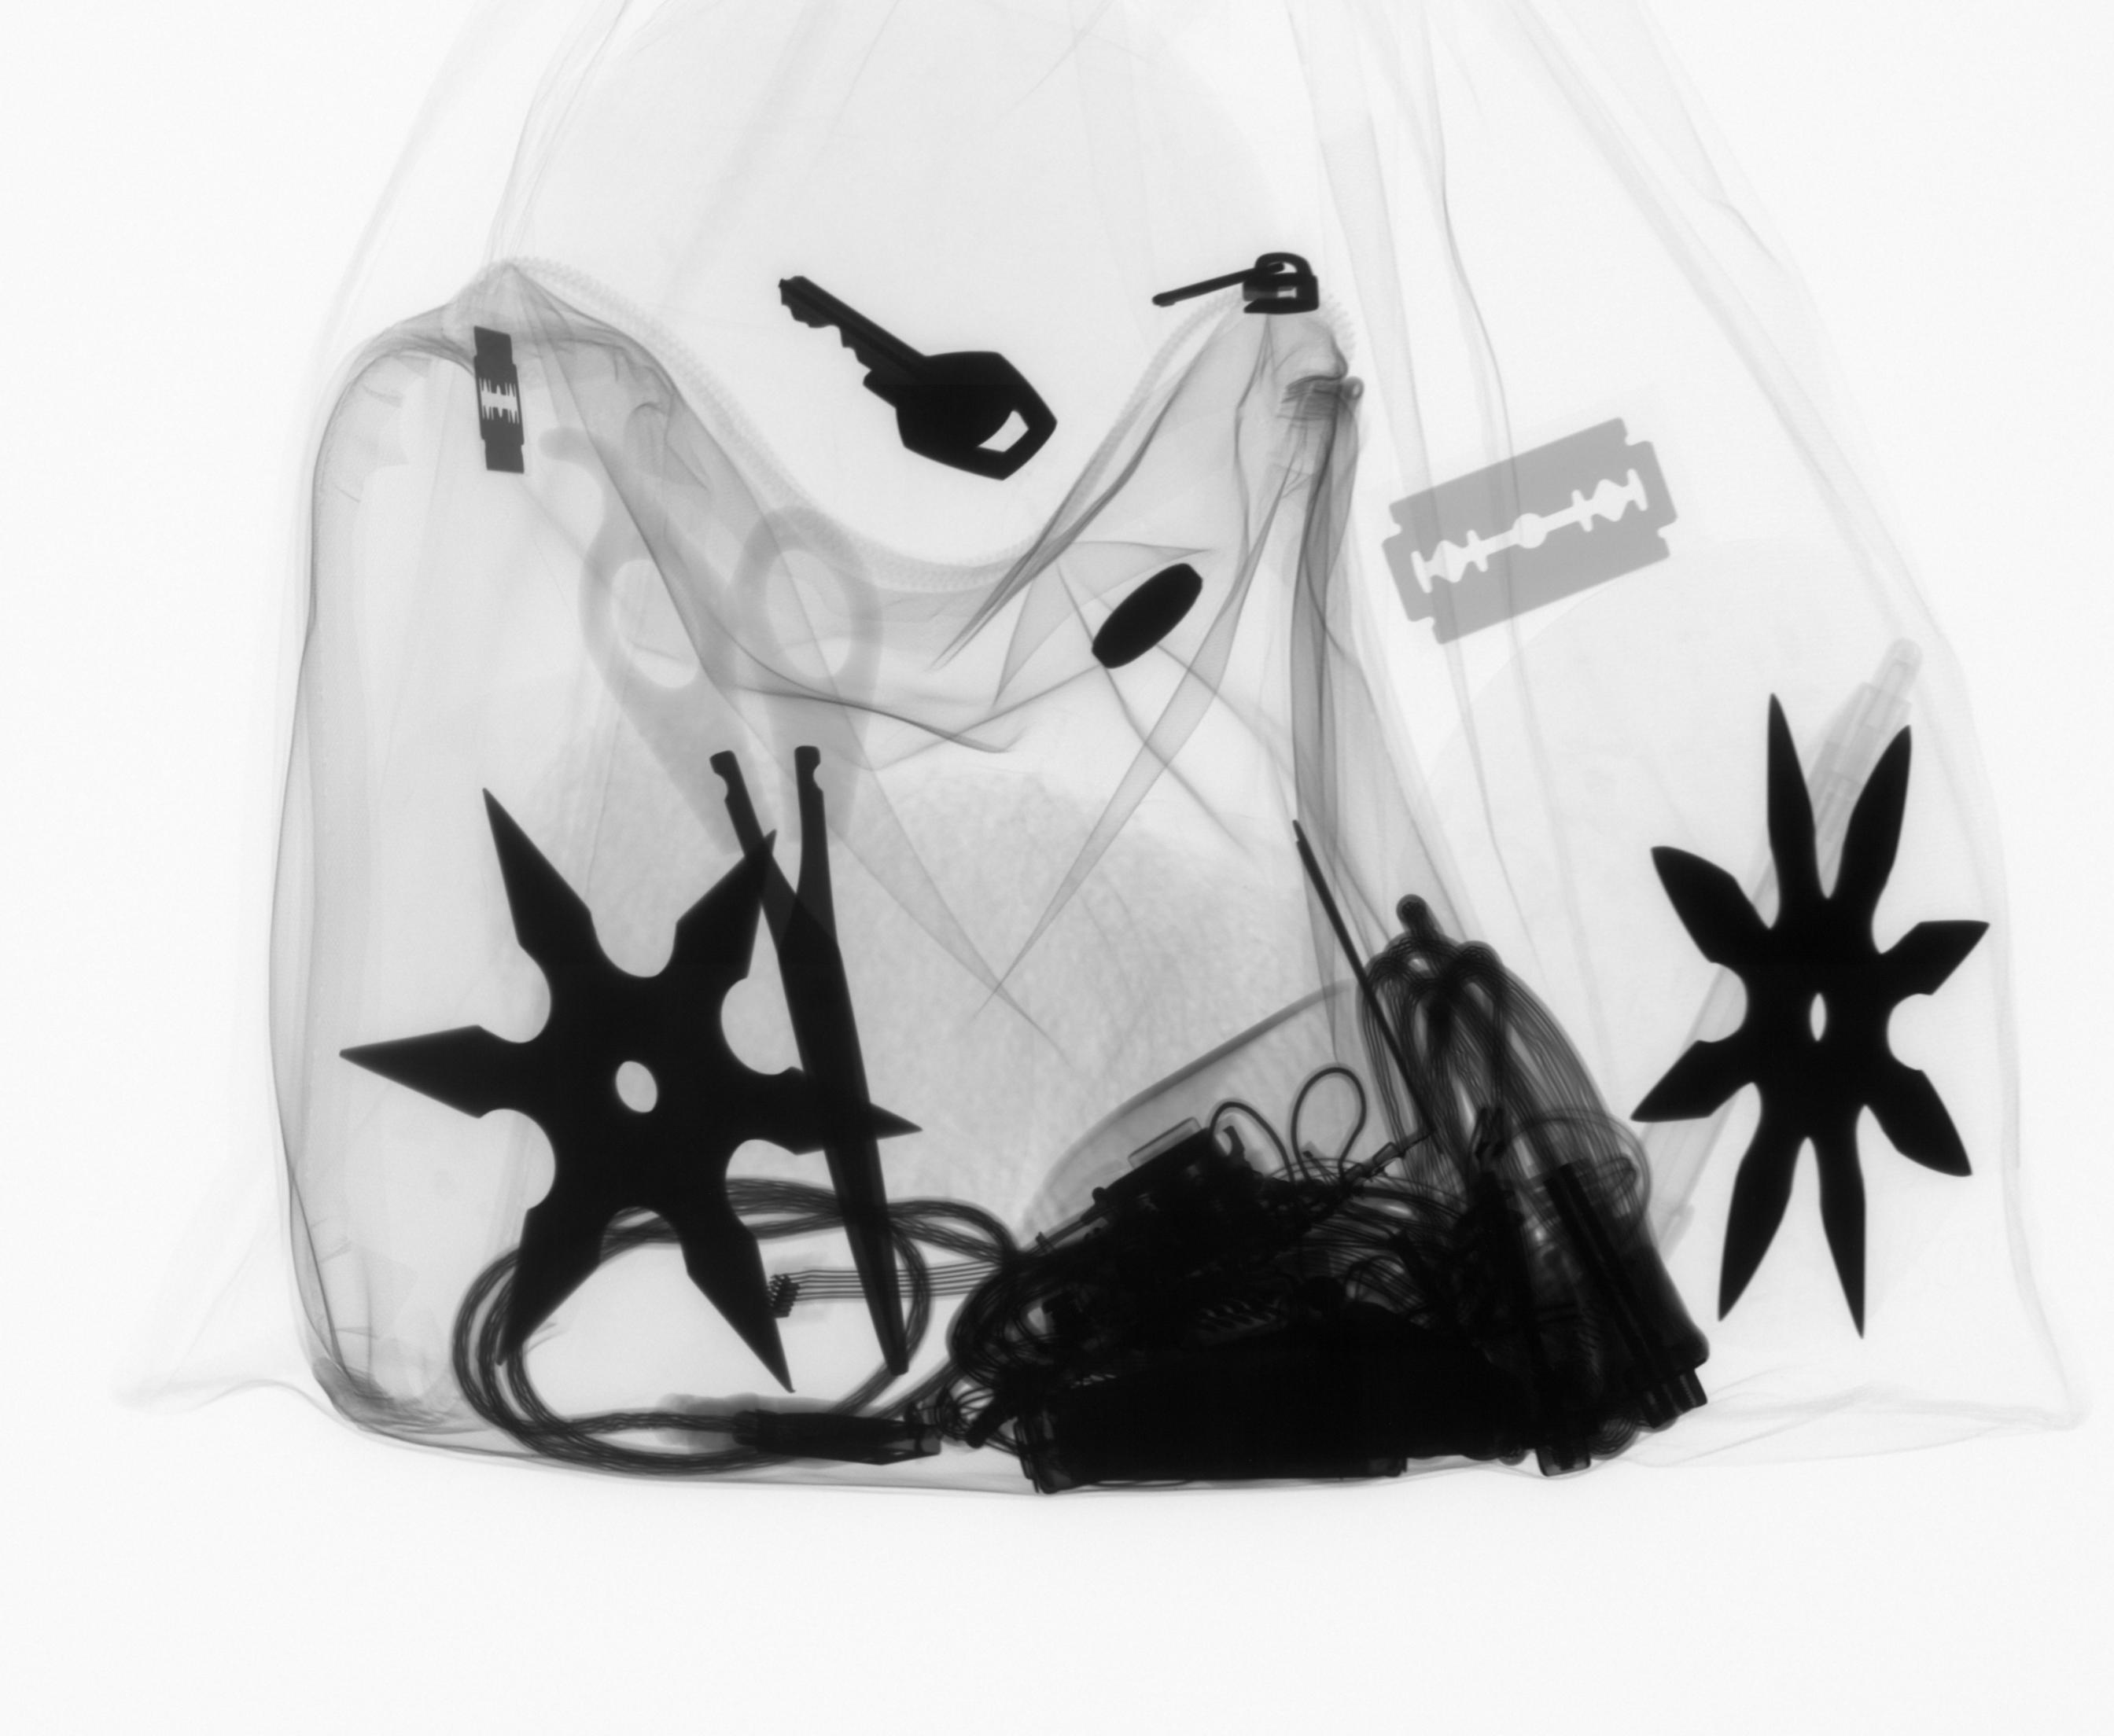RazorBlade: (1374, 407, 1684, 654), (458, 316, 547, 484)
Shuriken: (329, 779, 934, 1402), (1619, 682, 2002, 1351)
